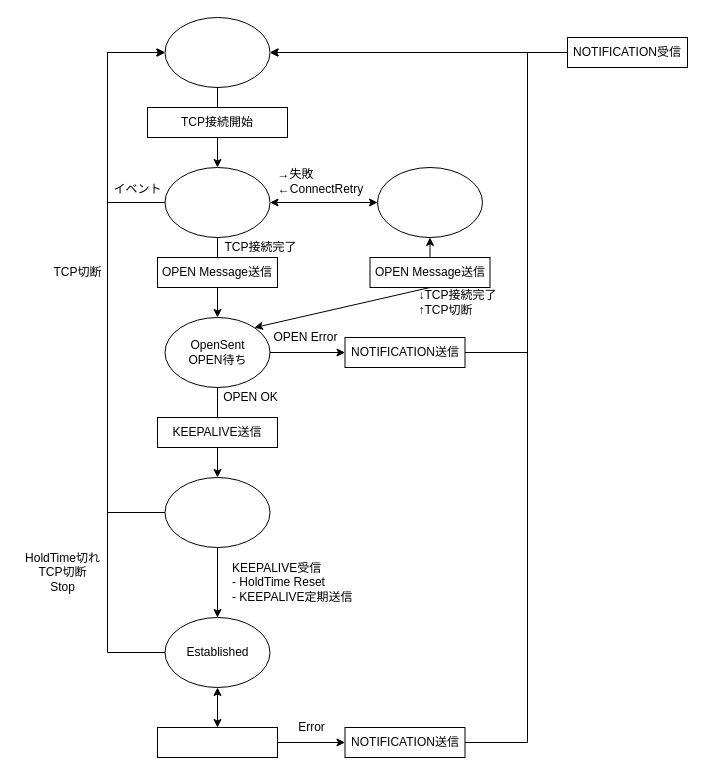
The diagram is 705 pixels wide and 775 high, and some of its shapes have lost their labels. Each missing label, with the centre of its shape:
"Active TCP接続待ち" belongs at (429,202).
"Connect TCP接続待ち" belongs at (217,202).
"Idle" belongs at (217,52).
"OpenConfirm KEEPALIVE待ち" belongs at (217,512).
"UPDATE 送受信" belongs at (217,742).
